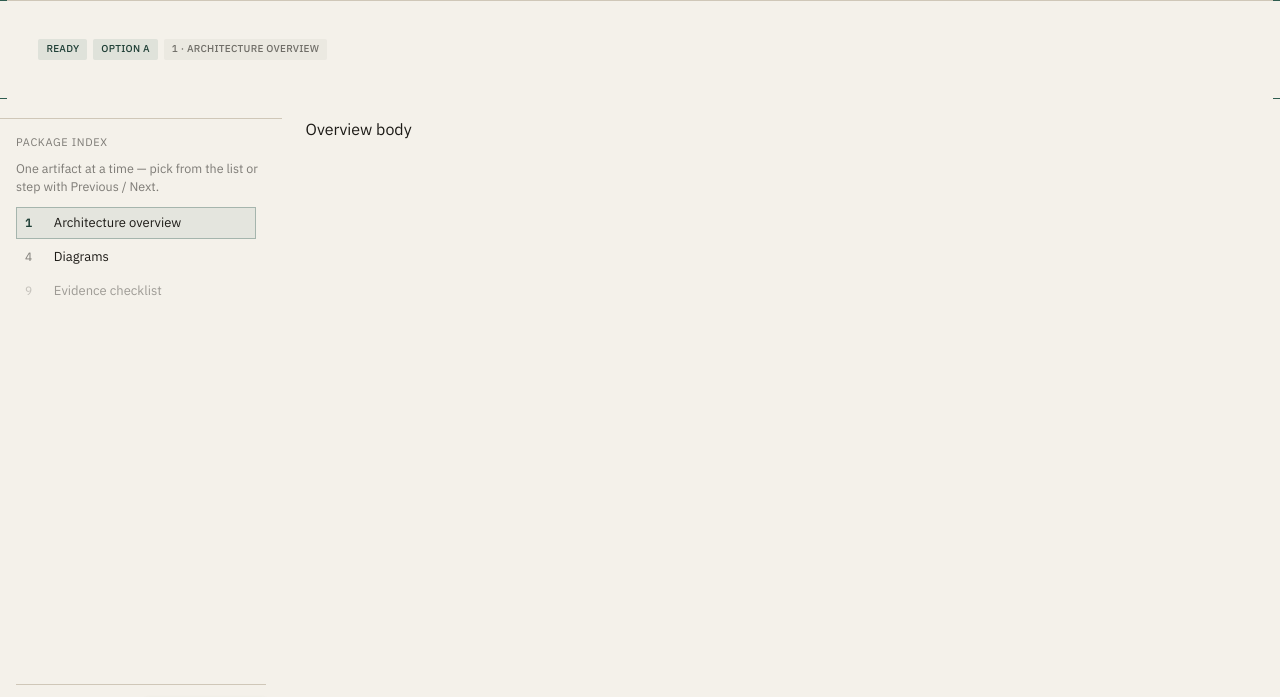
Test case: PackageBrowser › switches the content pane via replaceState without a full navigation
Expected: the text "Overview body" is shown, top-left (306, 119), bottom-right (412, 139)
Expected: the text "Diagrams body" is not shown
Step 1. Click the button "4 Diagrams" → [136, 257], box top-left (16, 241), bottom-right (256, 272)
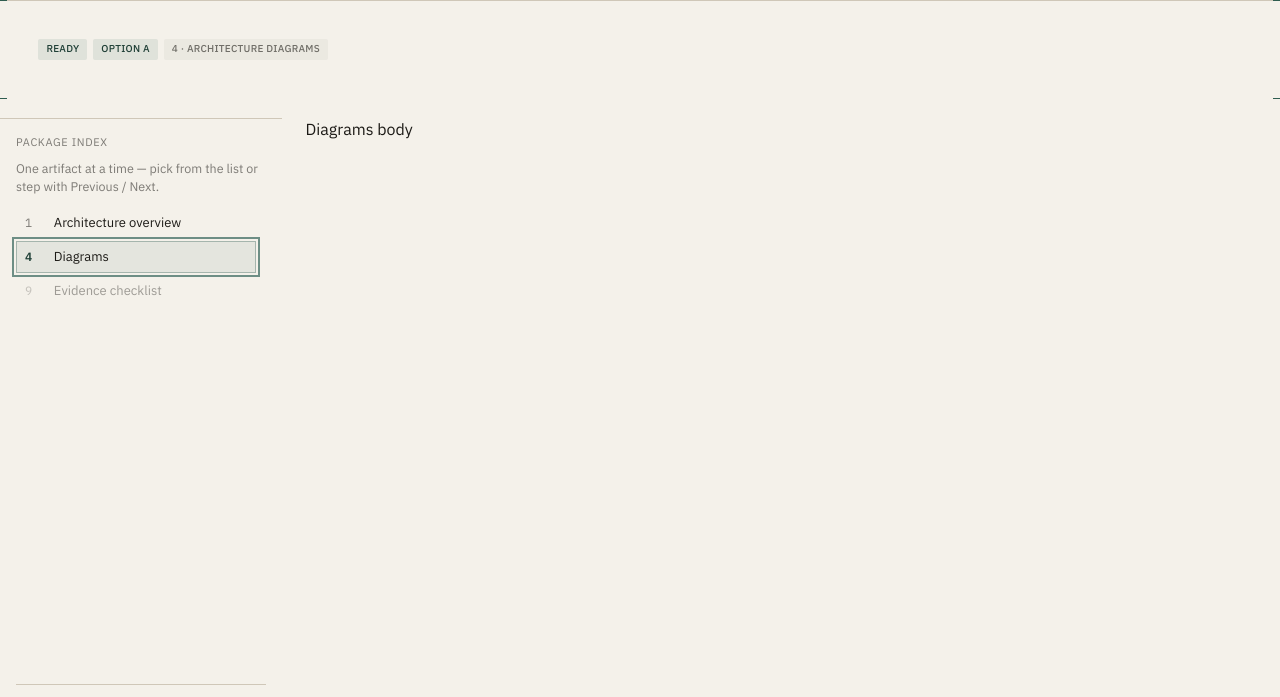
Expected: the text "Diagrams body" is shown, top-left (306, 119), bottom-right (413, 139)
Expected: the text "Overview body" is gone
